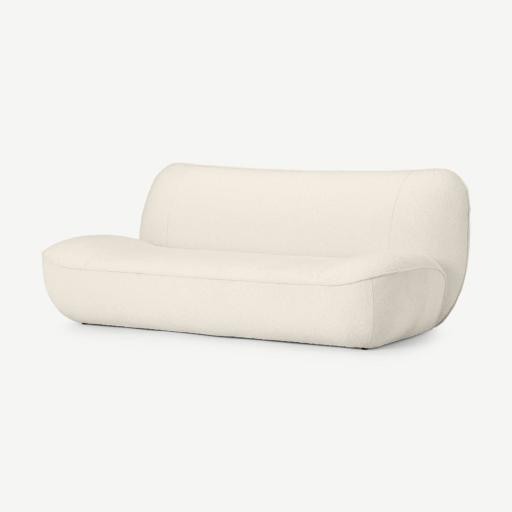back_cushion: (140, 164, 468, 323)
base: (44, 260, 444, 347)
one-seater: (42, 164, 469, 348)
seat_cushion: (43, 236, 440, 286)
